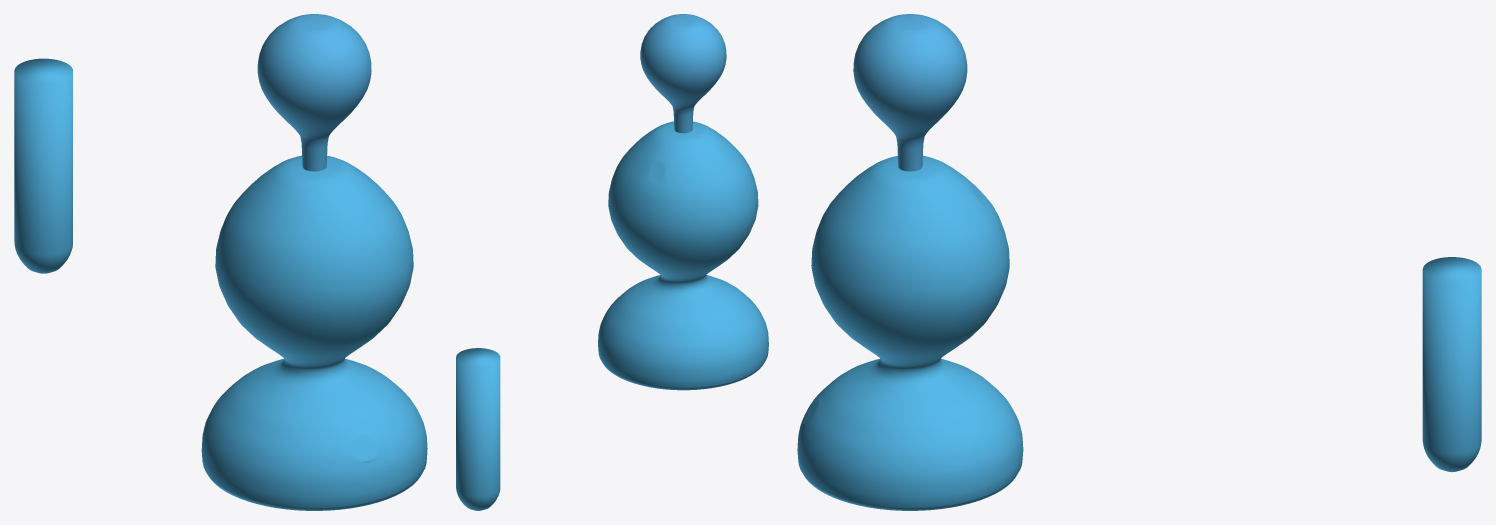
3 renders of one model, left to right at view 1: azimuth 30°, elevation 25°; view 2: azimuth 150°, elevation 25°; view 3: azimuth 270°, elevation 25°, orthographic. The views are drawn at different scales.
Visible parts, largest first — view 1: LqKippa3, Lq1Probirka, LqKippa2; view 2: LqKippa3, Lq1Probirka, LqKippa2; view 3: LqKippa3, Lq1Probirka, LqKippa2.
Boxes of the visible parts, x1,y1,x2,y2 form: LqKippa3: (201, 155, 427, 510); Lq1Probirka: (14, 58, 72, 273); LqKippa2: (257, 14, 371, 171); LqKippa3: (598, 121, 768, 390); Lq1Probirka: (456, 348, 500, 510); LqKippa2: (640, 14, 726, 133); LqKippa3: (797, 155, 1023, 510); Lq1Probirka: (1422, 257, 1481, 472); LqKippa2: (853, 14, 967, 171).
Size of the model in its own units: 224 by 488 by 677.
